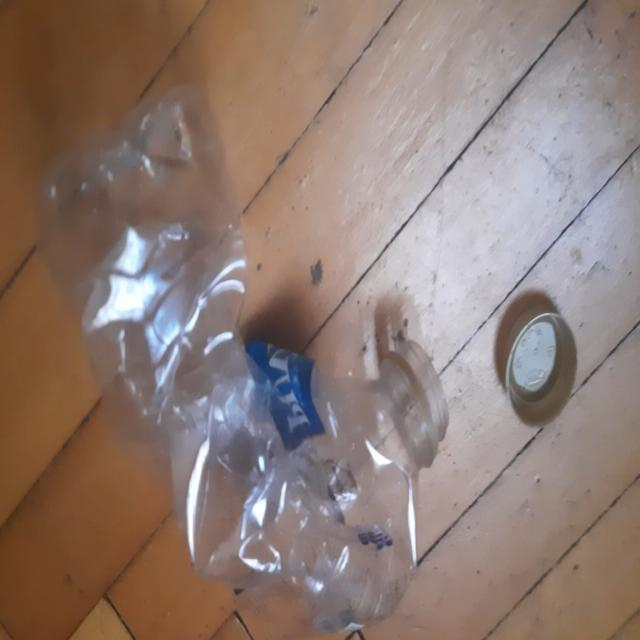Plastic: (38, 83, 448, 633)
